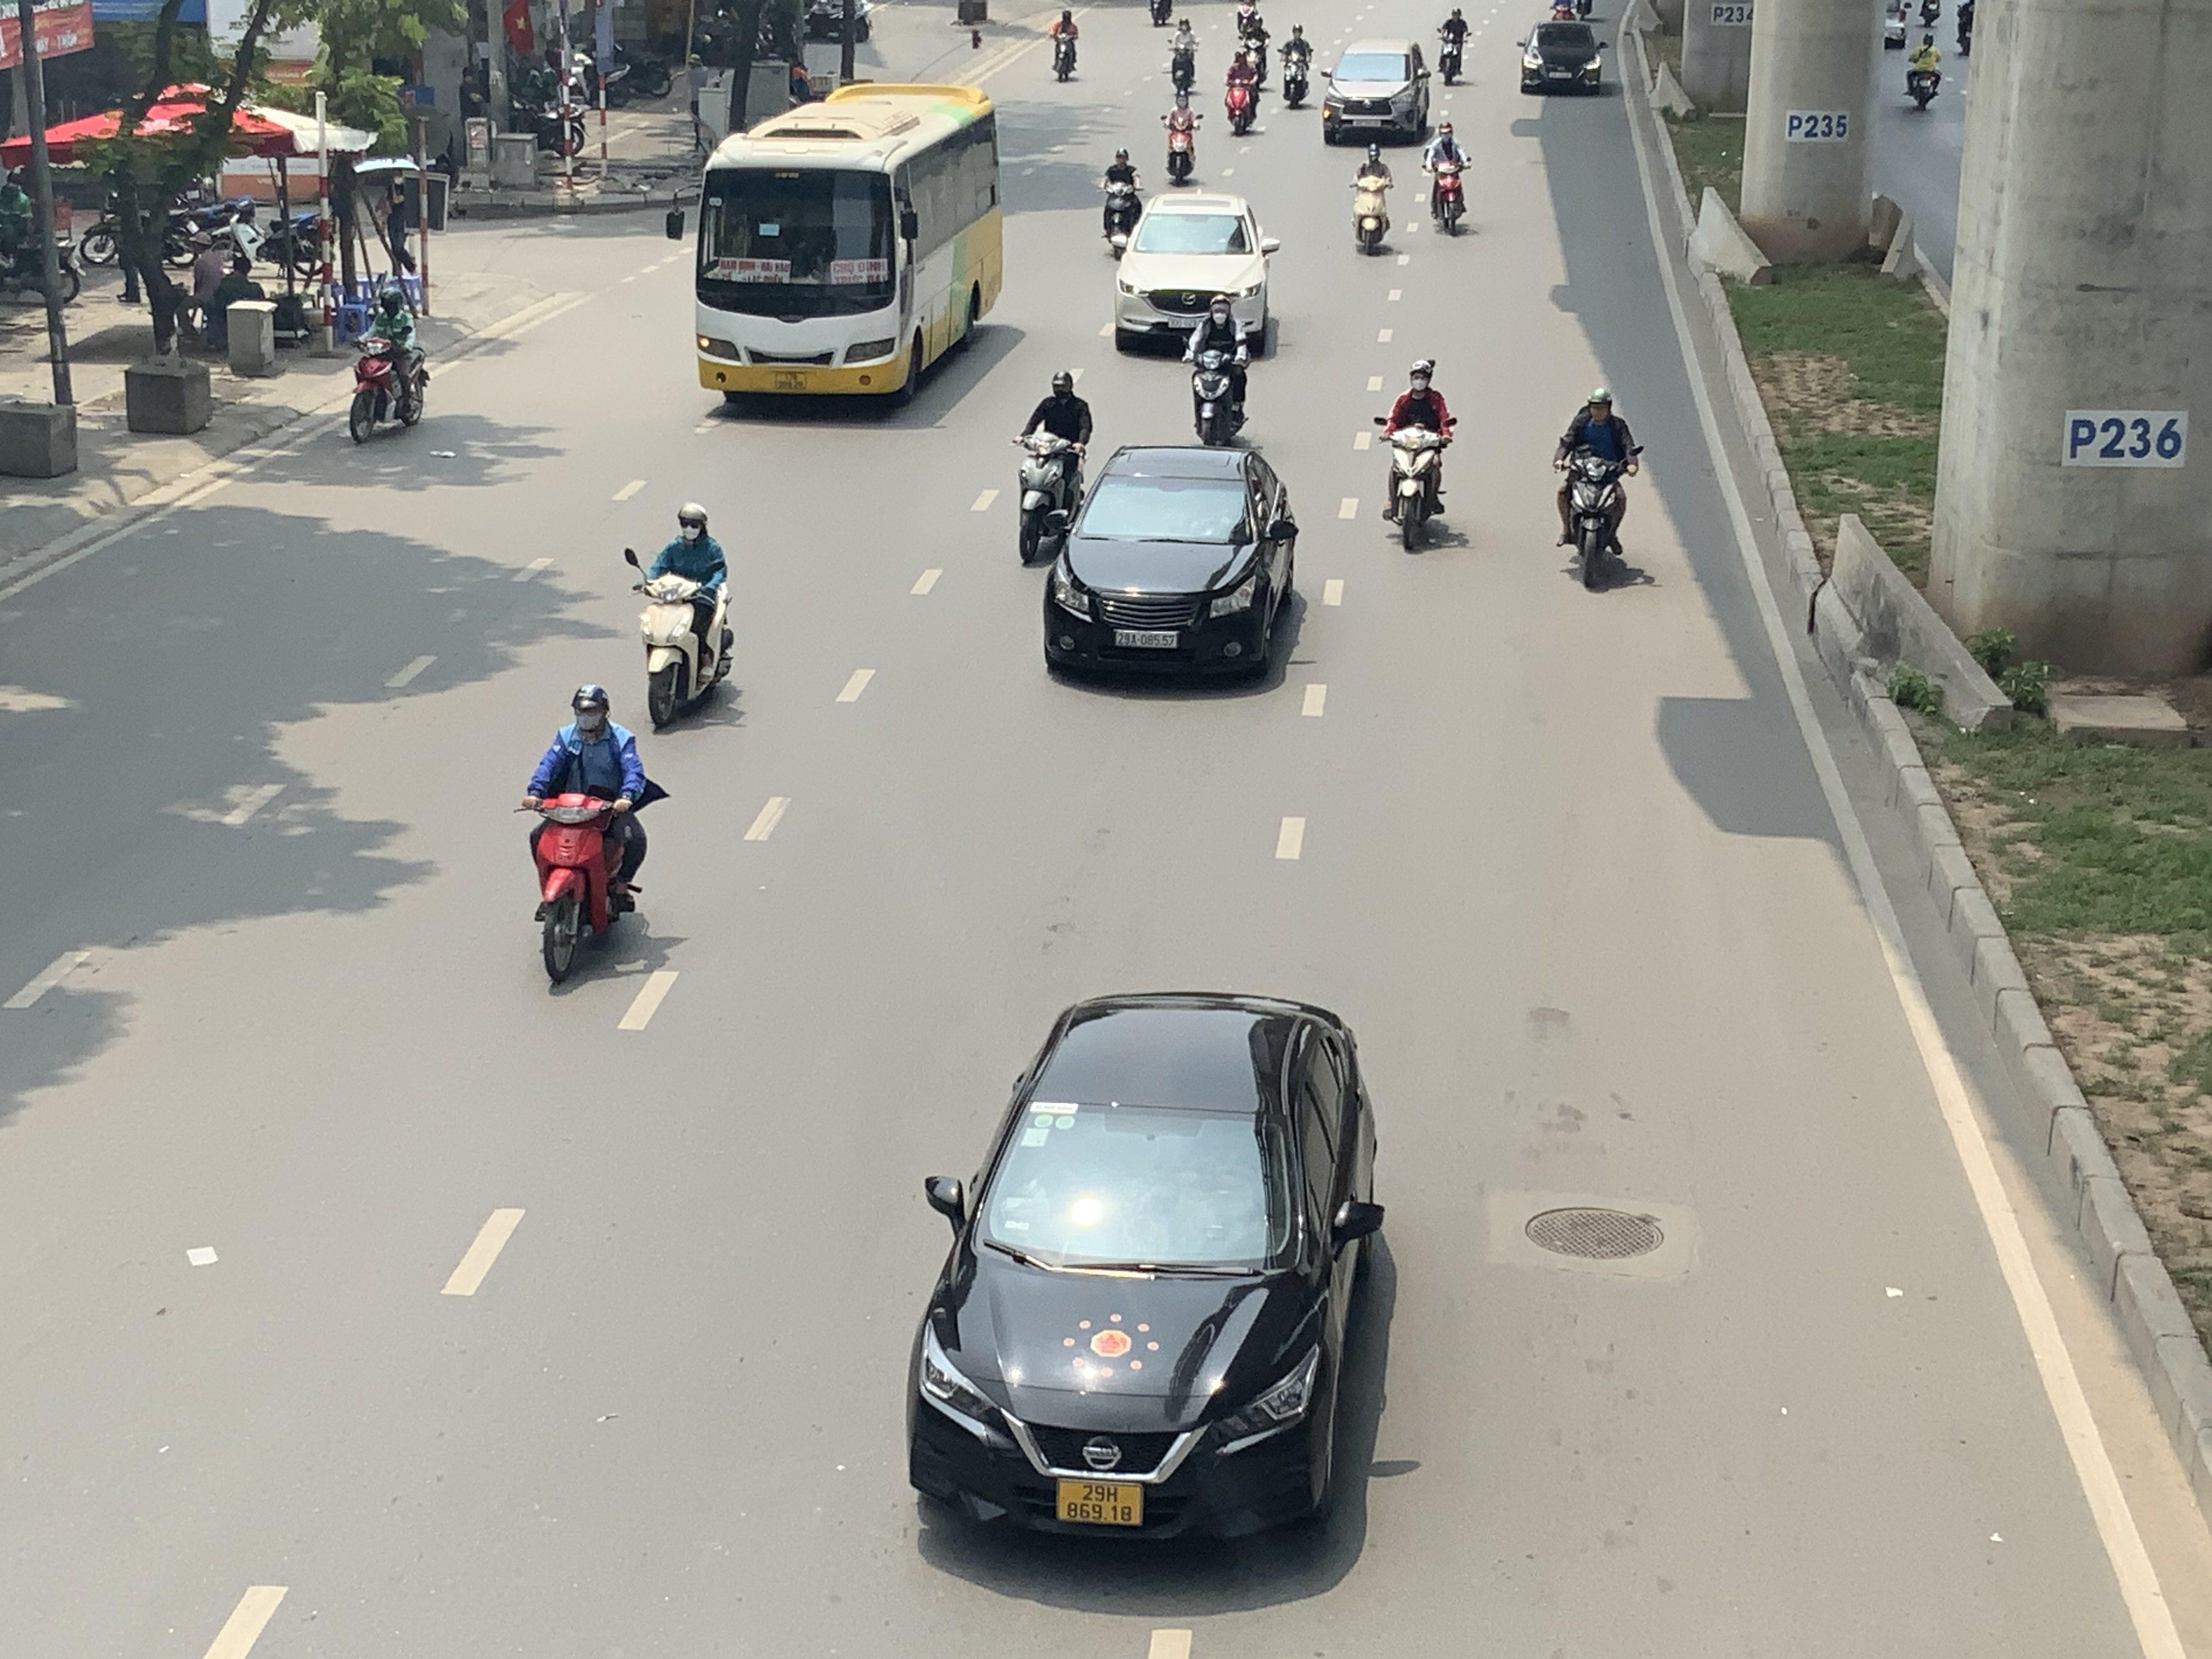BSD: (1115, 631, 1179, 647)
BSV: (1055, 1481, 1144, 1525), (773, 371, 806, 390)
bus: (686, 80, 1007, 401)
car: (902, 990, 1400, 1549), (1042, 443, 1306, 687), (1109, 190, 1280, 359), (1320, 40, 1433, 146), (1517, 17, 1606, 96)
motorbike: (521, 681, 662, 993), (629, 502, 737, 734), (1554, 387, 1641, 592), (1376, 359, 1458, 554), (1014, 368, 1094, 566), (347, 298, 430, 443), (1183, 291, 1252, 450), (0, 190, 84, 307), (1097, 145, 1146, 258), (1423, 120, 1470, 235), (1352, 141, 1395, 254), (1160, 91, 1202, 186), (1221, 45, 1263, 136), (1904, 24, 1944, 112), (1165, 17, 1202, 108), (1278, 23, 1315, 110), (1435, 5, 1472, 85), (1050, 3, 1082, 82)
